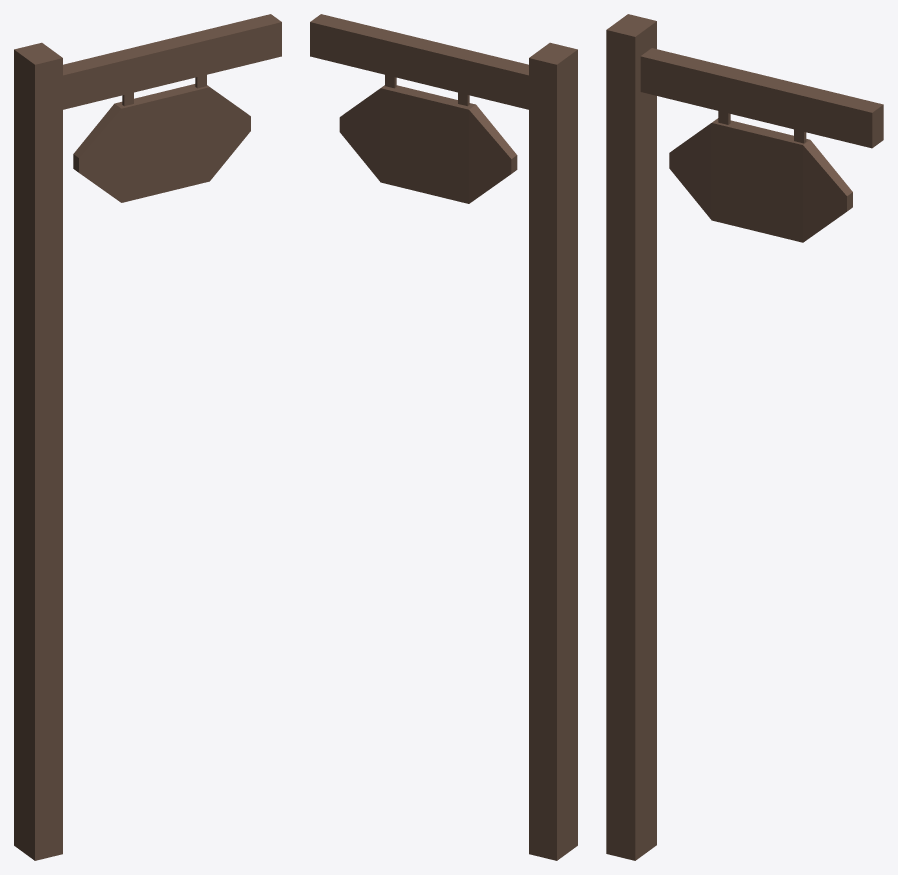
The model's file is sigh.fbx.
The picture shows the model from 3 angles, left to right: view 1: azimuth 30°, elevation 25°; view 2: azimuth 150°, elevation 25°; view 3: azimuth 330°, elevation 25°; orthographic projection. The views are drawn at different scales.
Parts seen in each view (by area): view 1: pCube705; view 2: pCube705; view 3: pCube705.
Part boxes in pixels (x1,y1,x2,y2): pCube705: [14, 14, 281, 860]; pCube705: [310, 14, 577, 860]; pCube705: [606, 14, 883, 860].
Bounding box in the file's own units: 3.13 × 9.46 × 0.4519.
